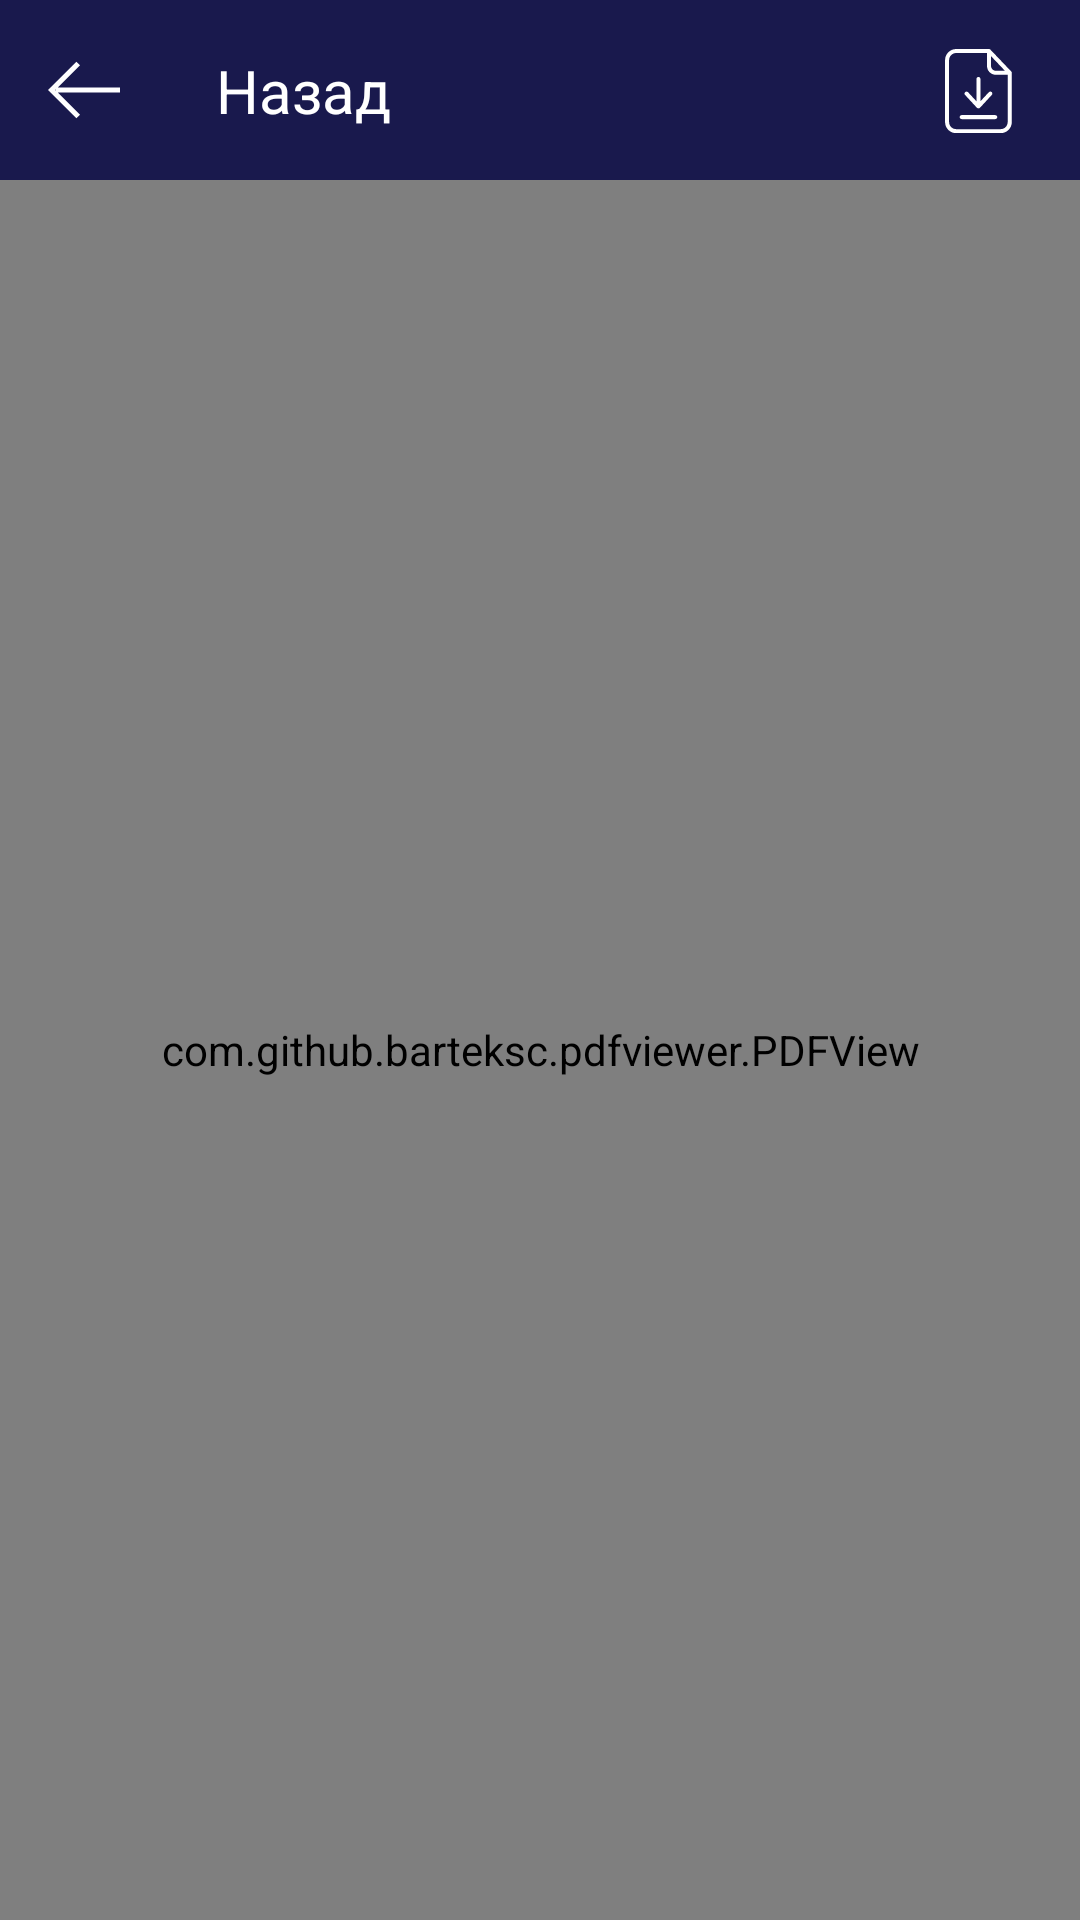

Icon click points for this 1080 × 1920 phone screenshot, format [x,y]:
back: [84,90]
download: [978,91]
